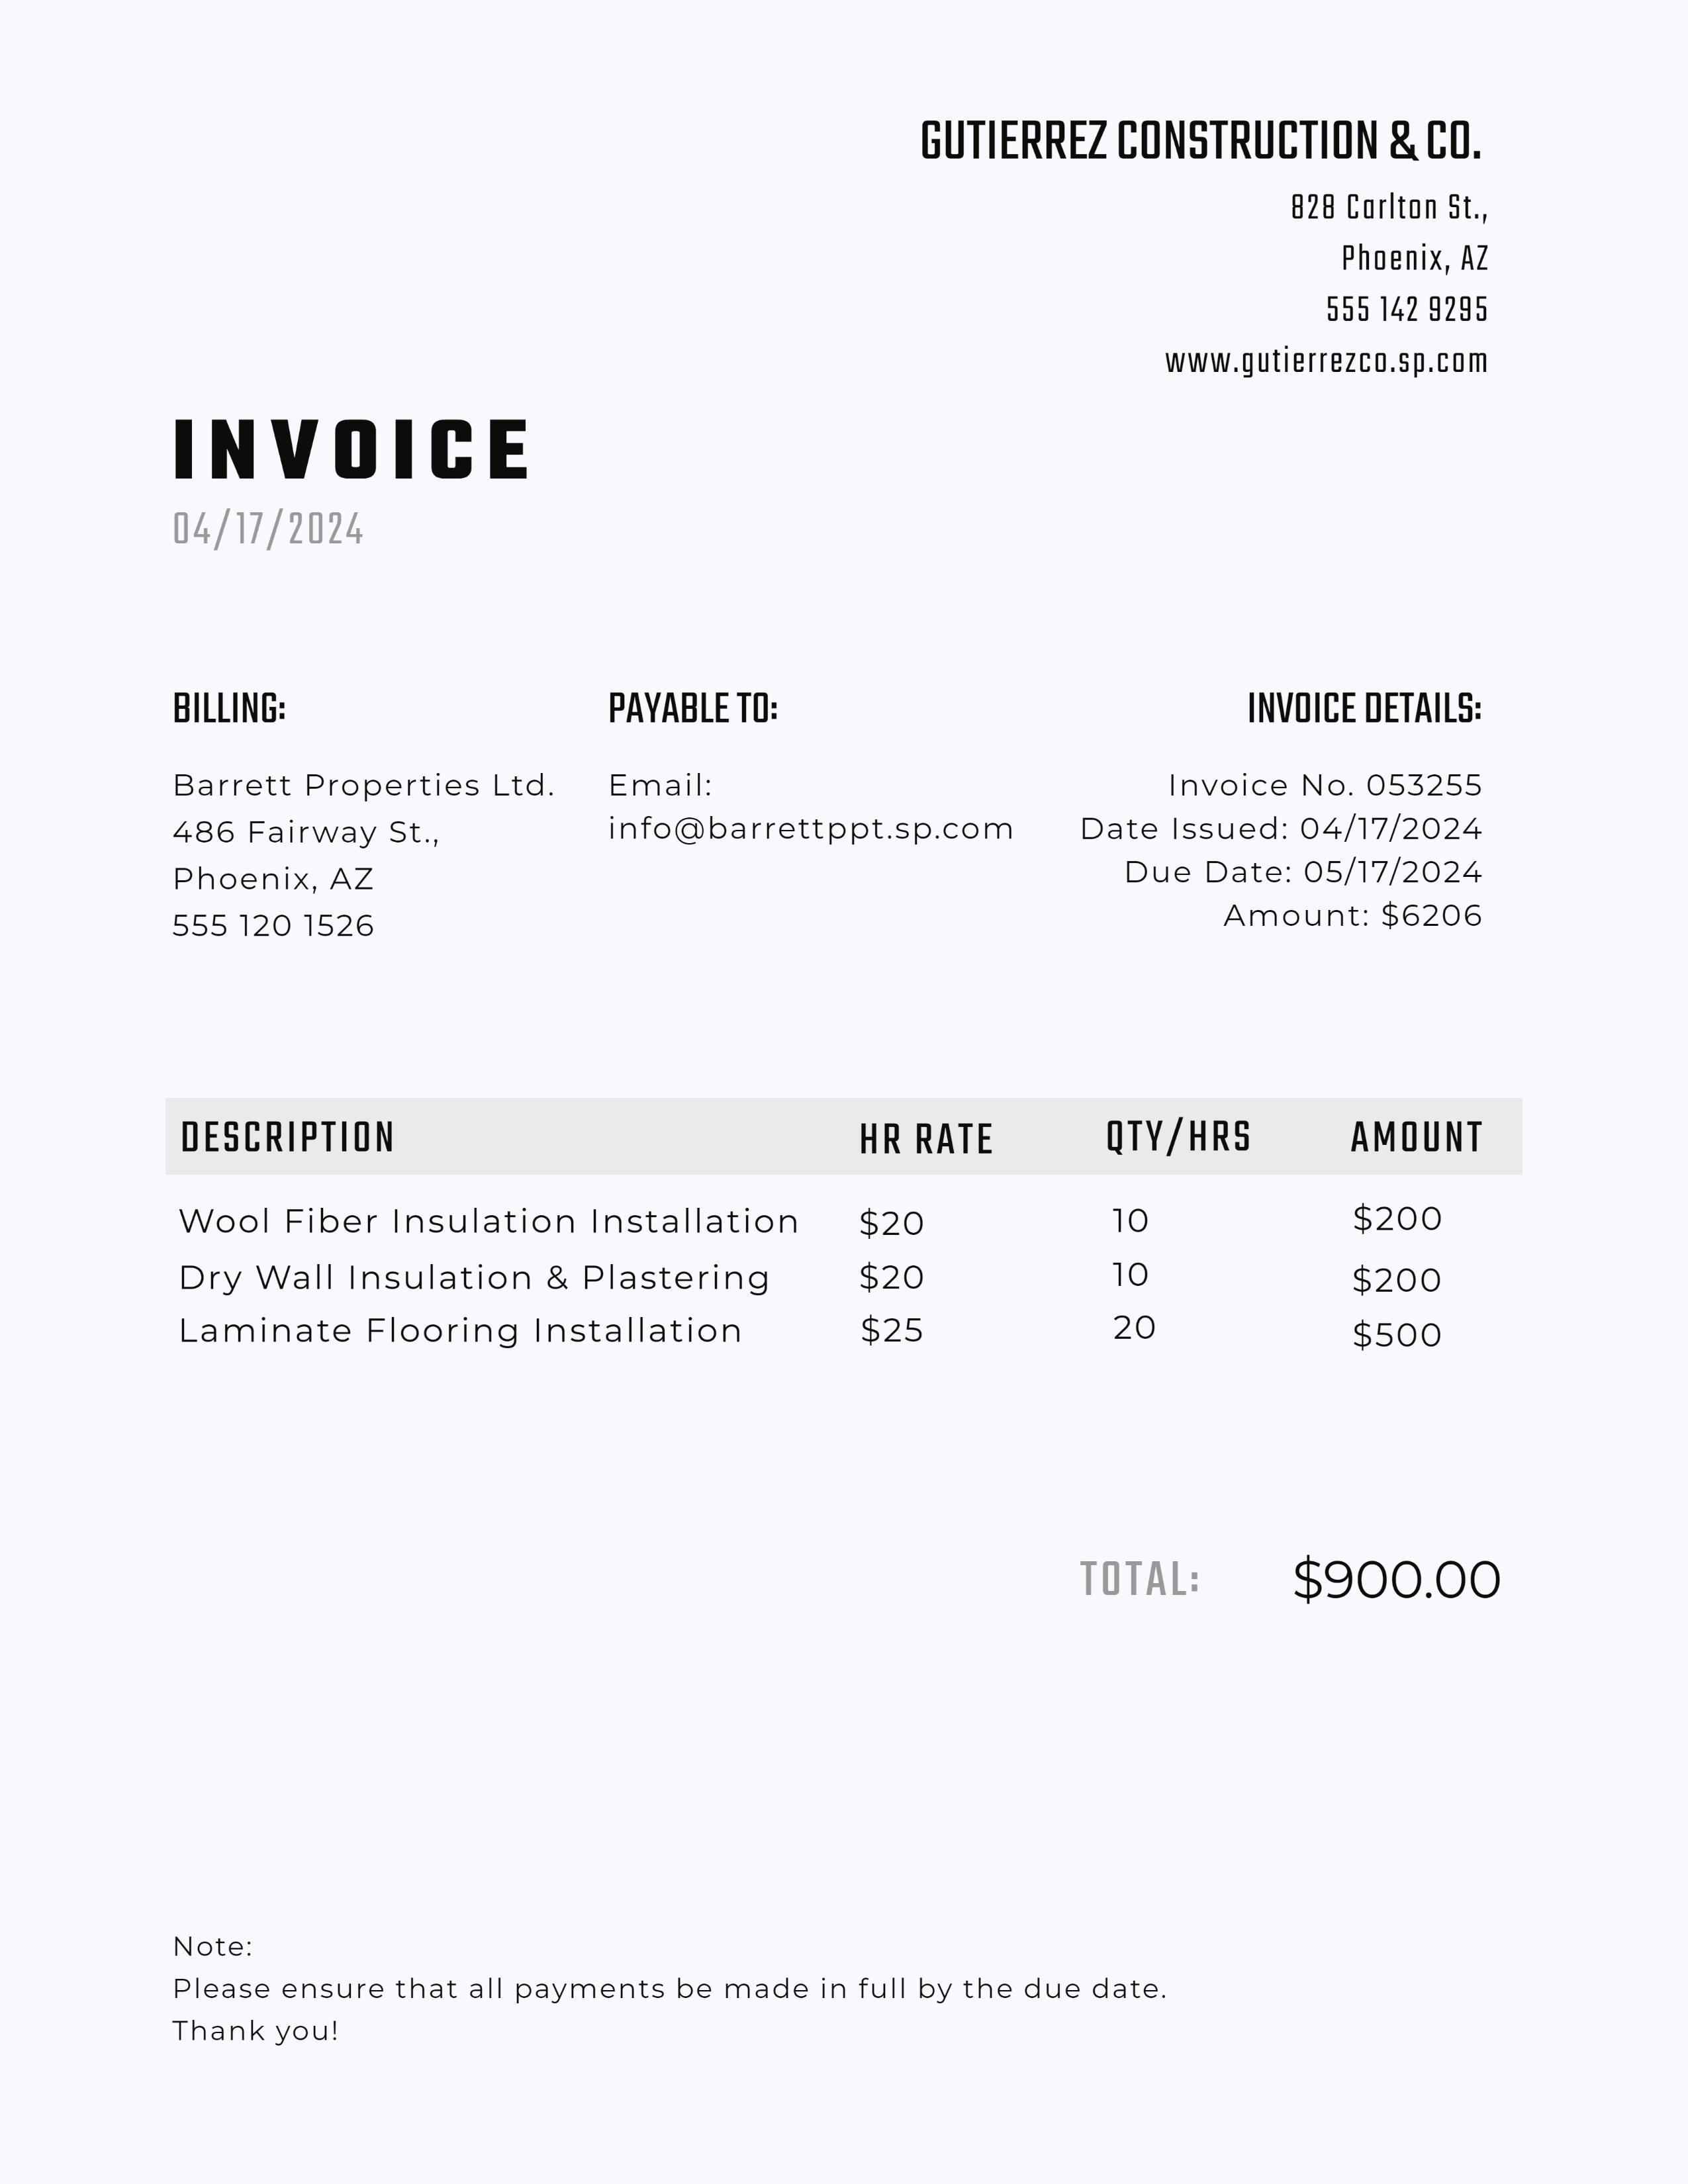ROI: (176, 1104, 1489, 1374), (906, 89, 1528, 401), (1080, 755, 1493, 959), (168, 757, 566, 959), (599, 755, 1030, 863), (1080, 1542, 1512, 1622)
